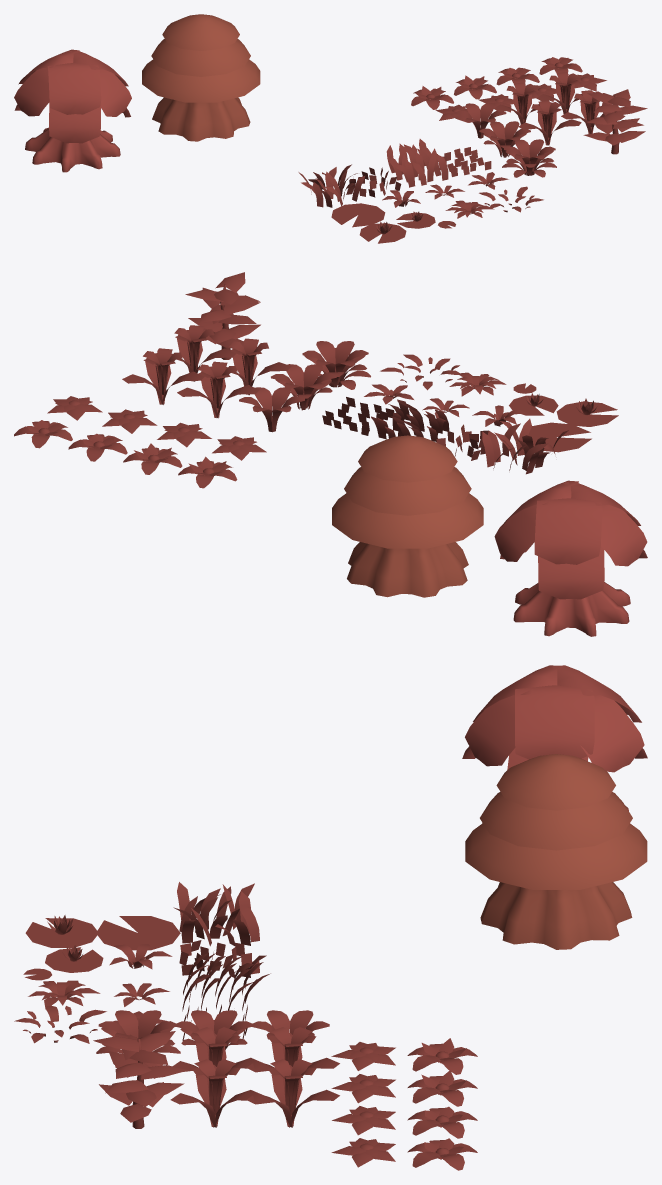
The model's file is worldObjectsDoubleSided.fbx.
The picture shows the model from 3 angles, top to bottom: view 1: azimuth 30°, elevation 25°; view 2: azimuth 150°, elevation 25°; view 3: azimuth 270°, elevation 25°; orthographic projection. The views are drawn at different scales.
Parts seen in each view (by area): view 1: tree1, tree2, plant5, grass2, plant3, grass8, flower10, nenuphar1, plant2, flower11, flower9, plant1 (+11 smaller); view 2: tree1, tree2, plant5, grass8, plant3, grass2, flower11, flower9, plant2, flower12, flower10, plant1 (+15 smaller); view 3: tree1, tree2, plant5, grass8, flower12, flower11, nenuphar1, plant3, nenuphar2, grass2, flower9, flower10 (+15 smaller).
Part boxes in pixels (x1,y1,x2,y2): tree1: (142, 14, 260, 141); tree2: (14, 49, 131, 172); plant5: (583, 89, 647, 154); grass2: (386, 139, 448, 187); plant3: (502, 139, 556, 177); grass8: (298, 164, 364, 207); flower10: (518, 100, 581, 145); nenuphar1: (331, 203, 385, 227); plant2: (479, 121, 530, 157); flower11: (536, 72, 594, 114); flower9: (493, 82, 551, 124); plant1: (454, 103, 506, 138); tree1: (332, 435, 483, 597); tree2: (494, 480, 647, 636); plant5: (185, 272, 260, 359); grass8: (482, 418, 568, 474); plant3: (302, 341, 370, 389); grass2: (371, 399, 449, 441); flower11: (122, 348, 204, 404); flower9: (177, 361, 259, 418); plant2: (271, 364, 336, 410); flower12: (156, 325, 236, 381); flower10: (211, 338, 291, 395); plant1: (239, 387, 304, 432); tree1: (465, 754, 647, 949); tree2: (462, 665, 647, 810); plant5: (93, 1031, 187, 1128); grass8: (173, 882, 259, 946); flower12: (170, 1059, 263, 1127); flower11: (246, 1059, 339, 1127); nenuphar1: (97, 916, 180, 950); plant3: (96, 1010, 180, 1068); nenuphar2: (25, 915, 98, 947); grass2: (182, 953, 270, 1011); flower9: (246, 1027, 339, 1072); flower10: (172, 1027, 263, 1071).
Size of the model in its own units: 12.13 by 2.34 by 8.35.
